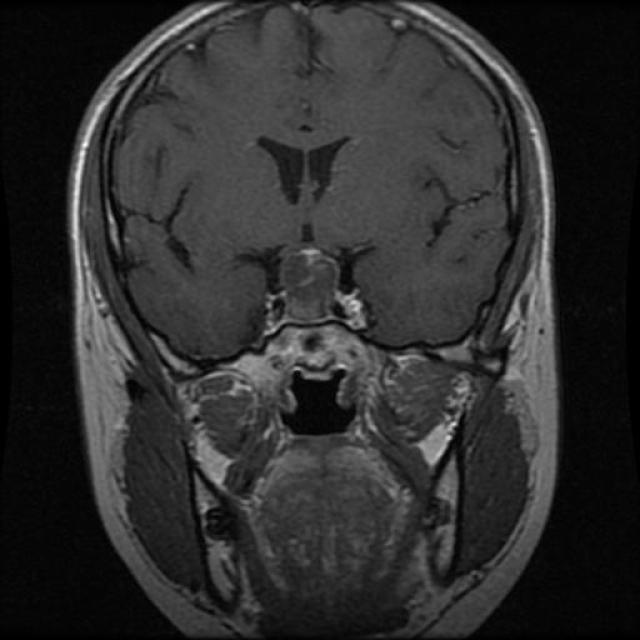pituitary: (257, 239, 383, 340)
